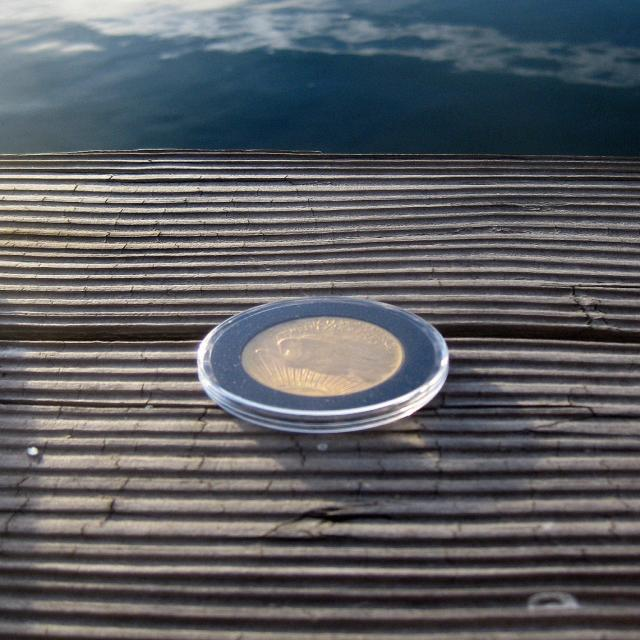non-organic waste: (192, 289, 472, 444)
